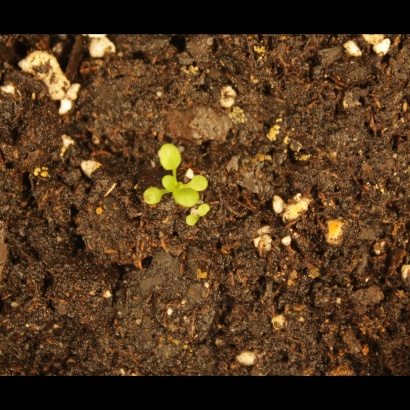leaf: (153, 140, 187, 173), (137, 184, 168, 209), (173, 185, 202, 210), (175, 215, 198, 238), (199, 205, 222, 228), (190, 171, 213, 194), (158, 173, 181, 196)
